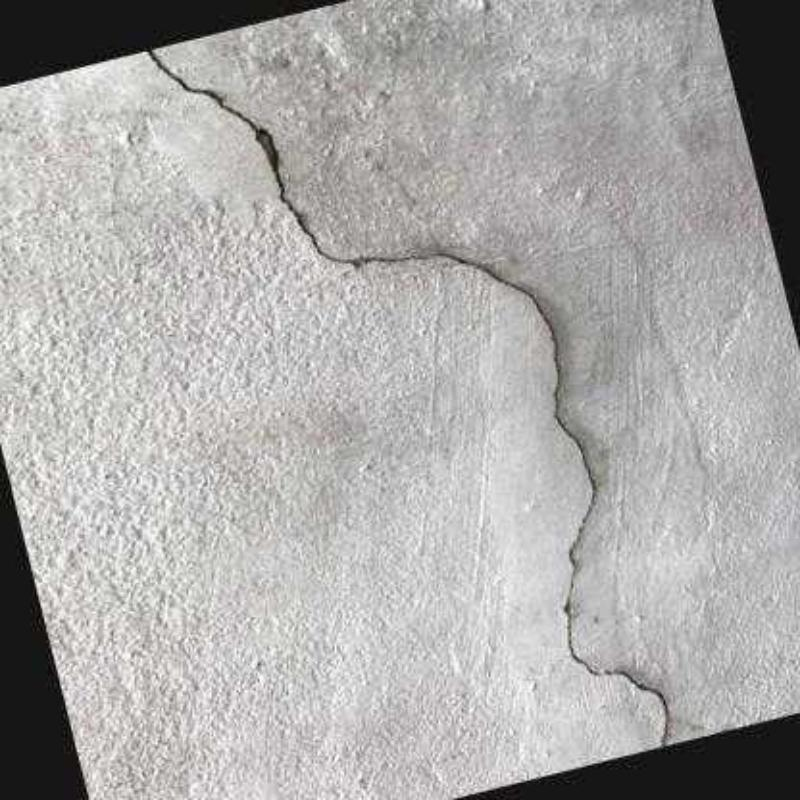pothole: (146, 50, 669, 747)
